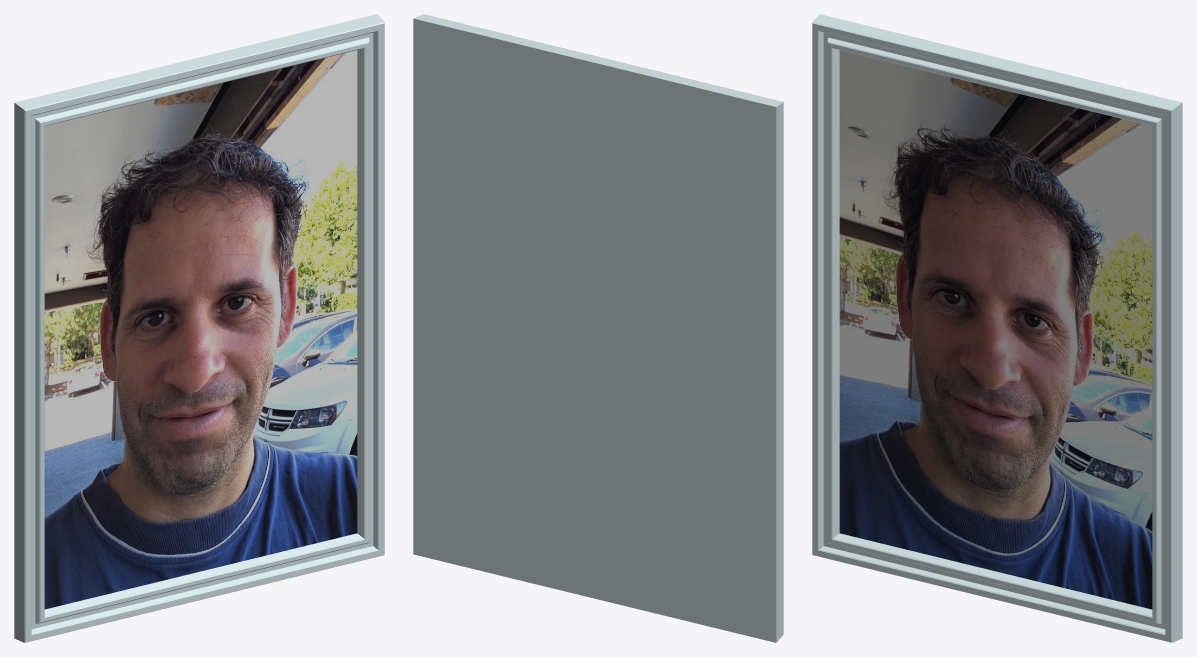
The model's file is aws_PortraitE_01_visual.DAE.
3 views of the same model, side by side, from view 1: azimuth 30°, elevation 25°; view 2: azimuth 150°, elevation 25°; view 3: azimuth 330°, elevation 25° (orthographic).
Parts seen in each view (by area): view 1: aws_PortraitE_01_visual; view 2: aws_PortraitE_01_visual; view 3: aws_PortraitE_01_visual.
Part boxes in pixels (bbox=[...]): aws_PortraitE_01_visual: bbox=[14, 14, 384, 642]; aws_PortraitE_01_visual: bbox=[413, 14, 783, 642]; aws_PortraitE_01_visual: bbox=[812, 14, 1182, 642].
Size of the model in its own units: 54.13 by 2.38 by 76.35.
2 materials, 2 textured.
